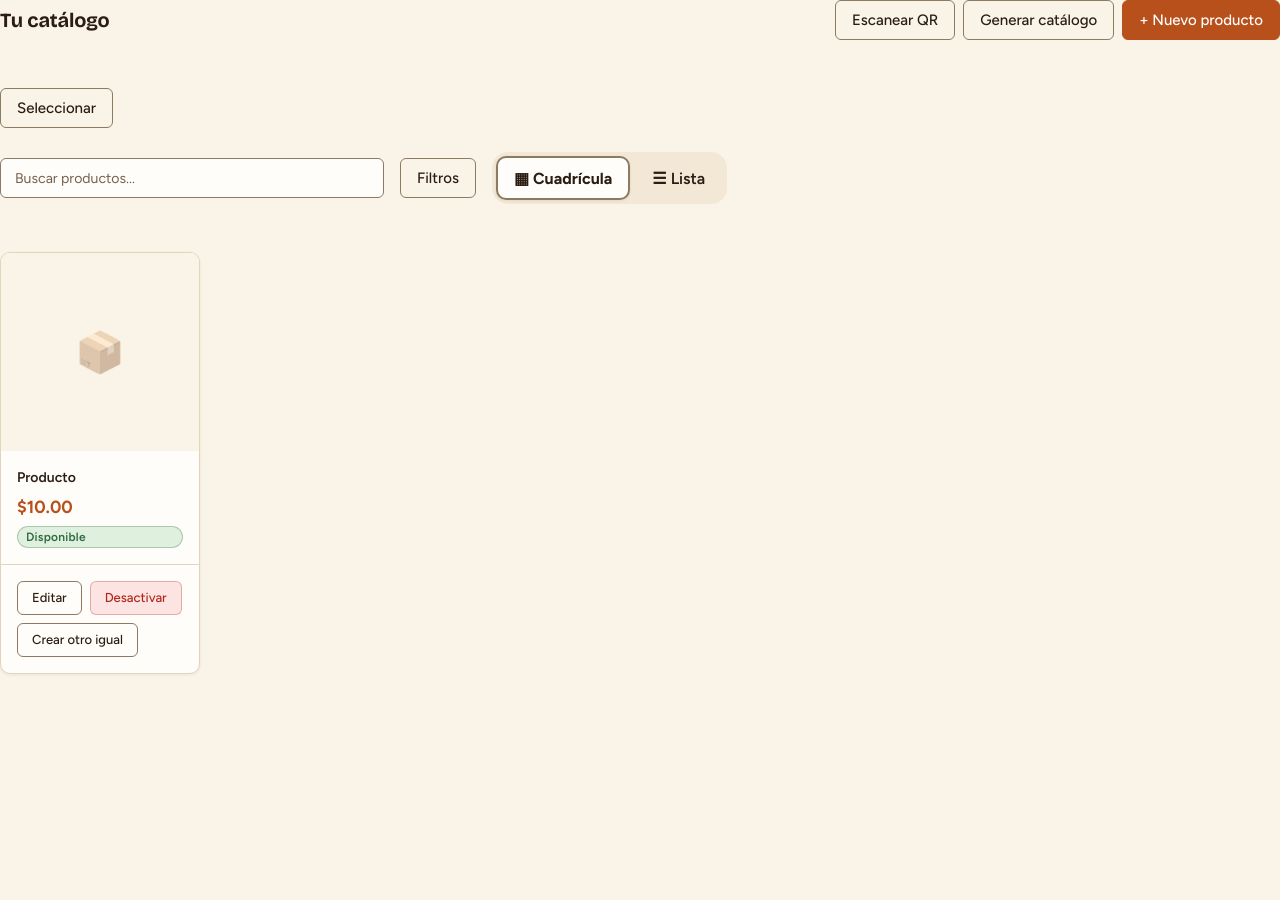
Test: ProductCatalogView según el modo de interfaz › cambio de modo con la vista montada › gestión → venta oculta la gestión y apaga "Mostrar inactivos" recargando solo activos
The image size is (1280, 900).
Click the button "Filtros" at (438, 178), box [400,158,476,198]
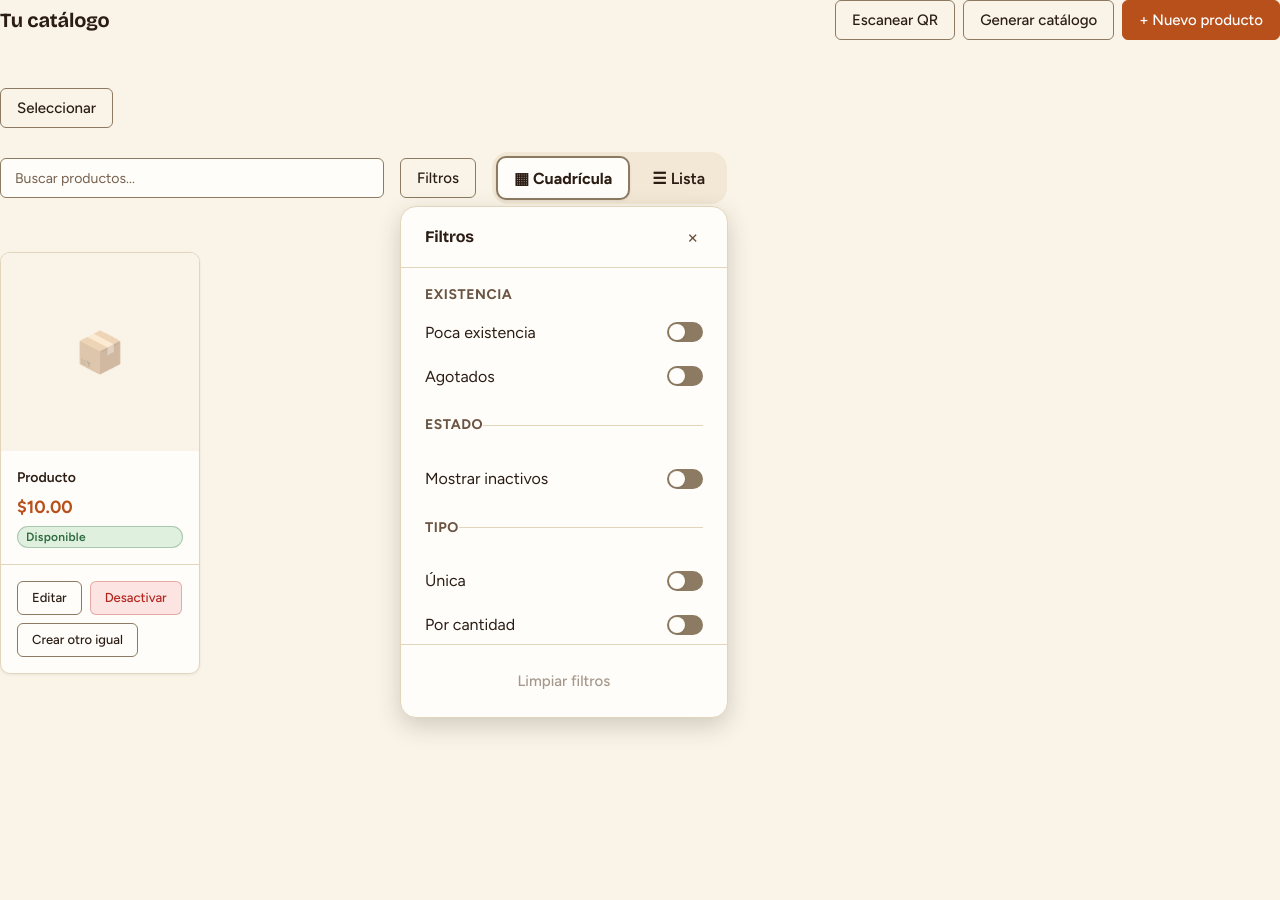
Click the checkbox labelled "Mostrar inactivos" at (487, 478), box [425,469,548,488]
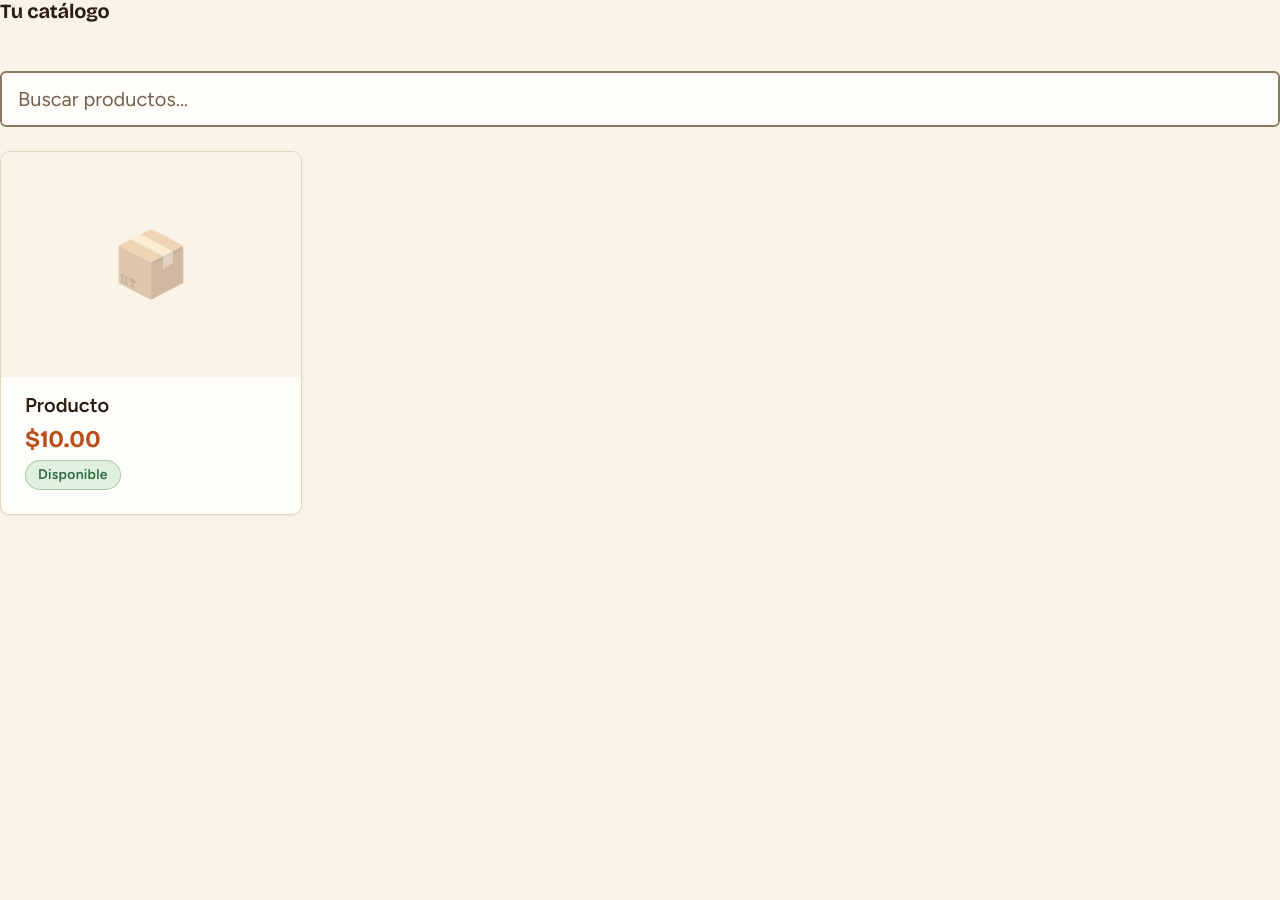
Check: the element showing "📦 Producto $10.00 Disponible" is shown, box [0,151,302,515]
Check: the text "Nuevo producto" is gone
Check: the text "Desactivar" is gone
